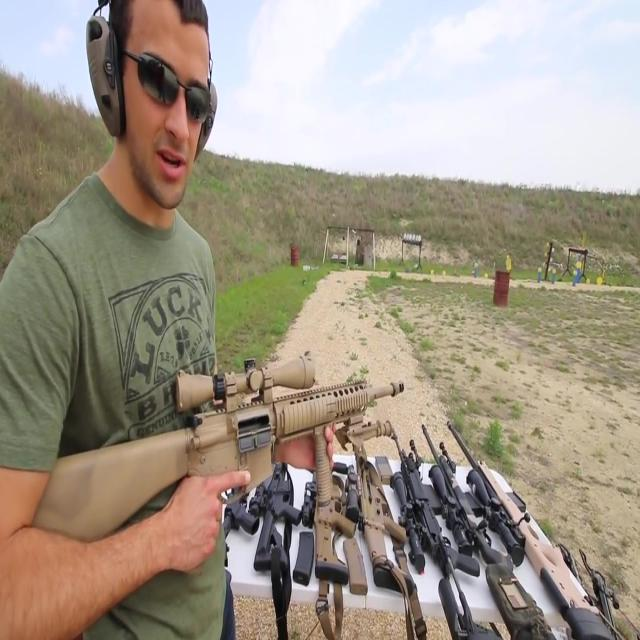Weapon: (173, 370, 628, 640), (0, 313, 424, 586)
